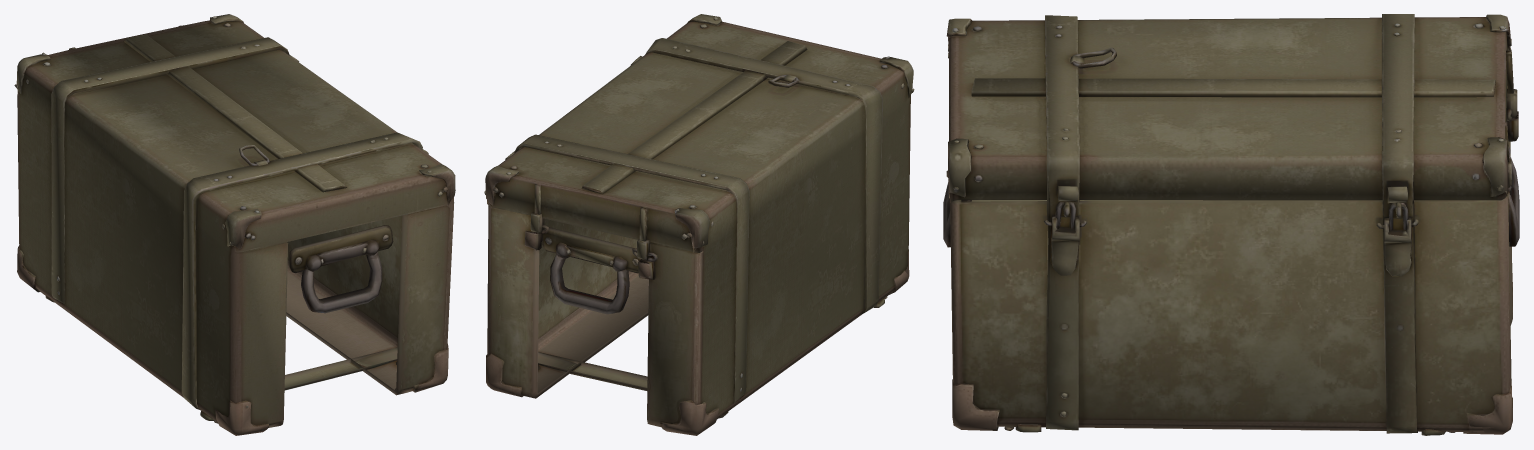
File: old ammo crate 3d model.glb
3 renders of one model, left to right at view 1: azimuth 30°, elevation 25°; view 2: azimuth 150°, elevation 25°; view 3: azimuth 270°, elevation 25°, orthographic. The views are drawn at different scales.
Visible parts, largest first — view 1: tripo_node_1b8c33c3-9f45-4978-8469-552b4d9d6ce6; view 2: tripo_node_1b8c33c3-9f45-4978-8469-552b4d9d6ce6; view 3: tripo_node_1b8c33c3-9f45-4978-8469-552b4d9d6ce6.
Boxes of the visible parts, x1,y1,x2,y2 form: tripo_node_1b8c33c3-9f45-4978-8469-552b4d9d6ce6: [14, 14, 455, 435]; tripo_node_1b8c33c3-9f45-4978-8469-552b4d9d6ce6: [484, 14, 914, 435]; tripo_node_1b8c33c3-9f45-4978-8469-552b4d9d6ce6: [943, 14, 1519, 435].
Bounding box in the file's own units: 0.6387 × 0.5723 × 0.998.
Materials: 1 (1 with a texture image).
